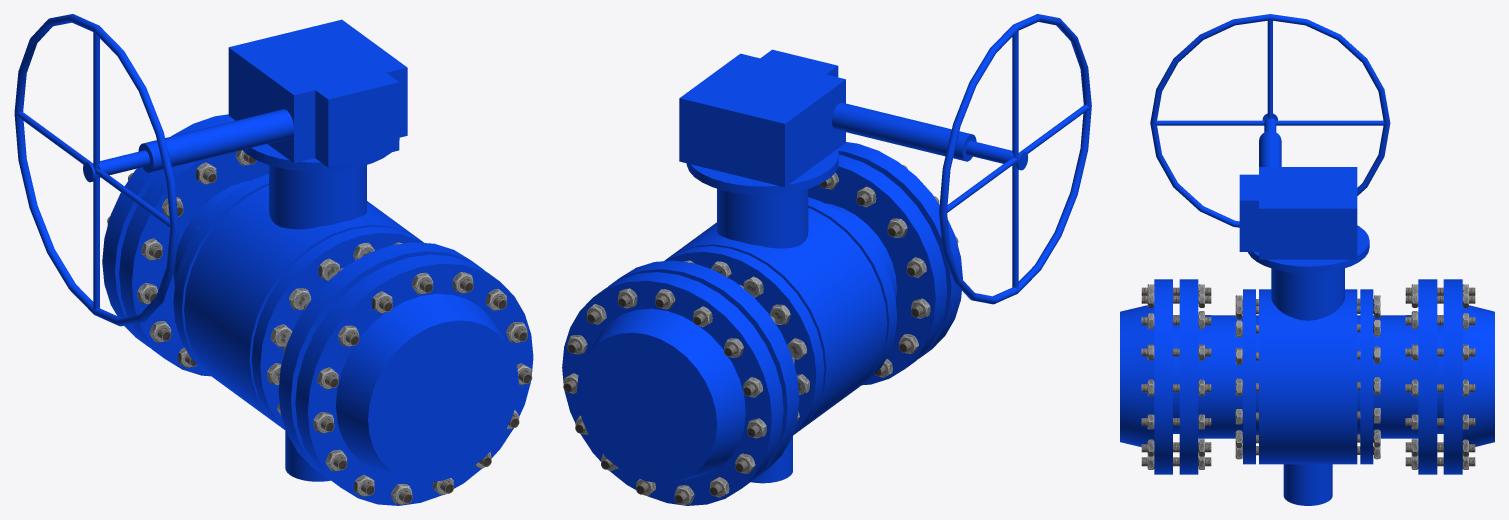
Rendered from Gate_Valve.fbx.
The picture shows the model from 3 angles, left to right: view 1: azimuth 30°, elevation 25°; view 2: azimuth 150°, elevation 25°; view 3: azimuth 270°, elevation 25°; orthographic projection. The views are drawn at different scales.
Visible parts, largest first — view 1: A1481, Object001; view 2: A1481, Object001; view 3: A1481, Object001.
Part boxes in pixels (x1,y1,x2,y2): A1481: (102, 19, 533, 505); Object001: (14, 14, 178, 326); A1481: (562, 49, 976, 505); Object001: (939, 14, 1091, 304); A1481: (1120, 131, 1494, 505); Object001: (1150, 14, 1390, 227).
Size of the model in its own units: 79.08 by 107 by 93.01.
2 materials, 1 textured.
